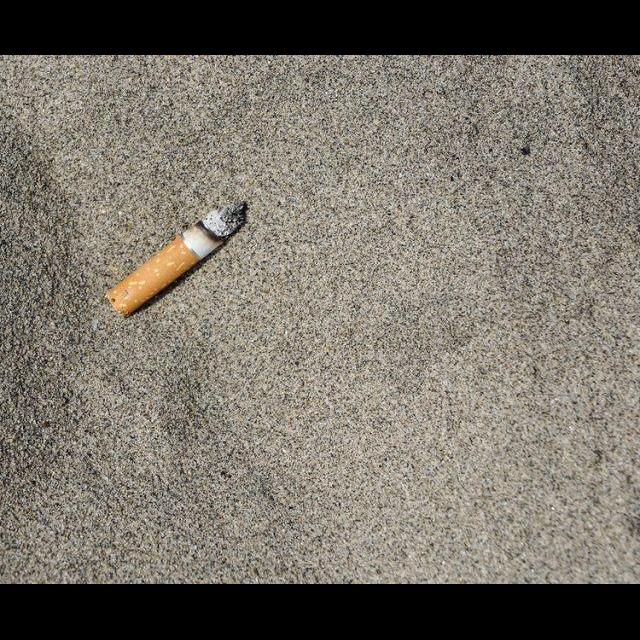Cigarette Butt: (103, 199, 249, 320)
